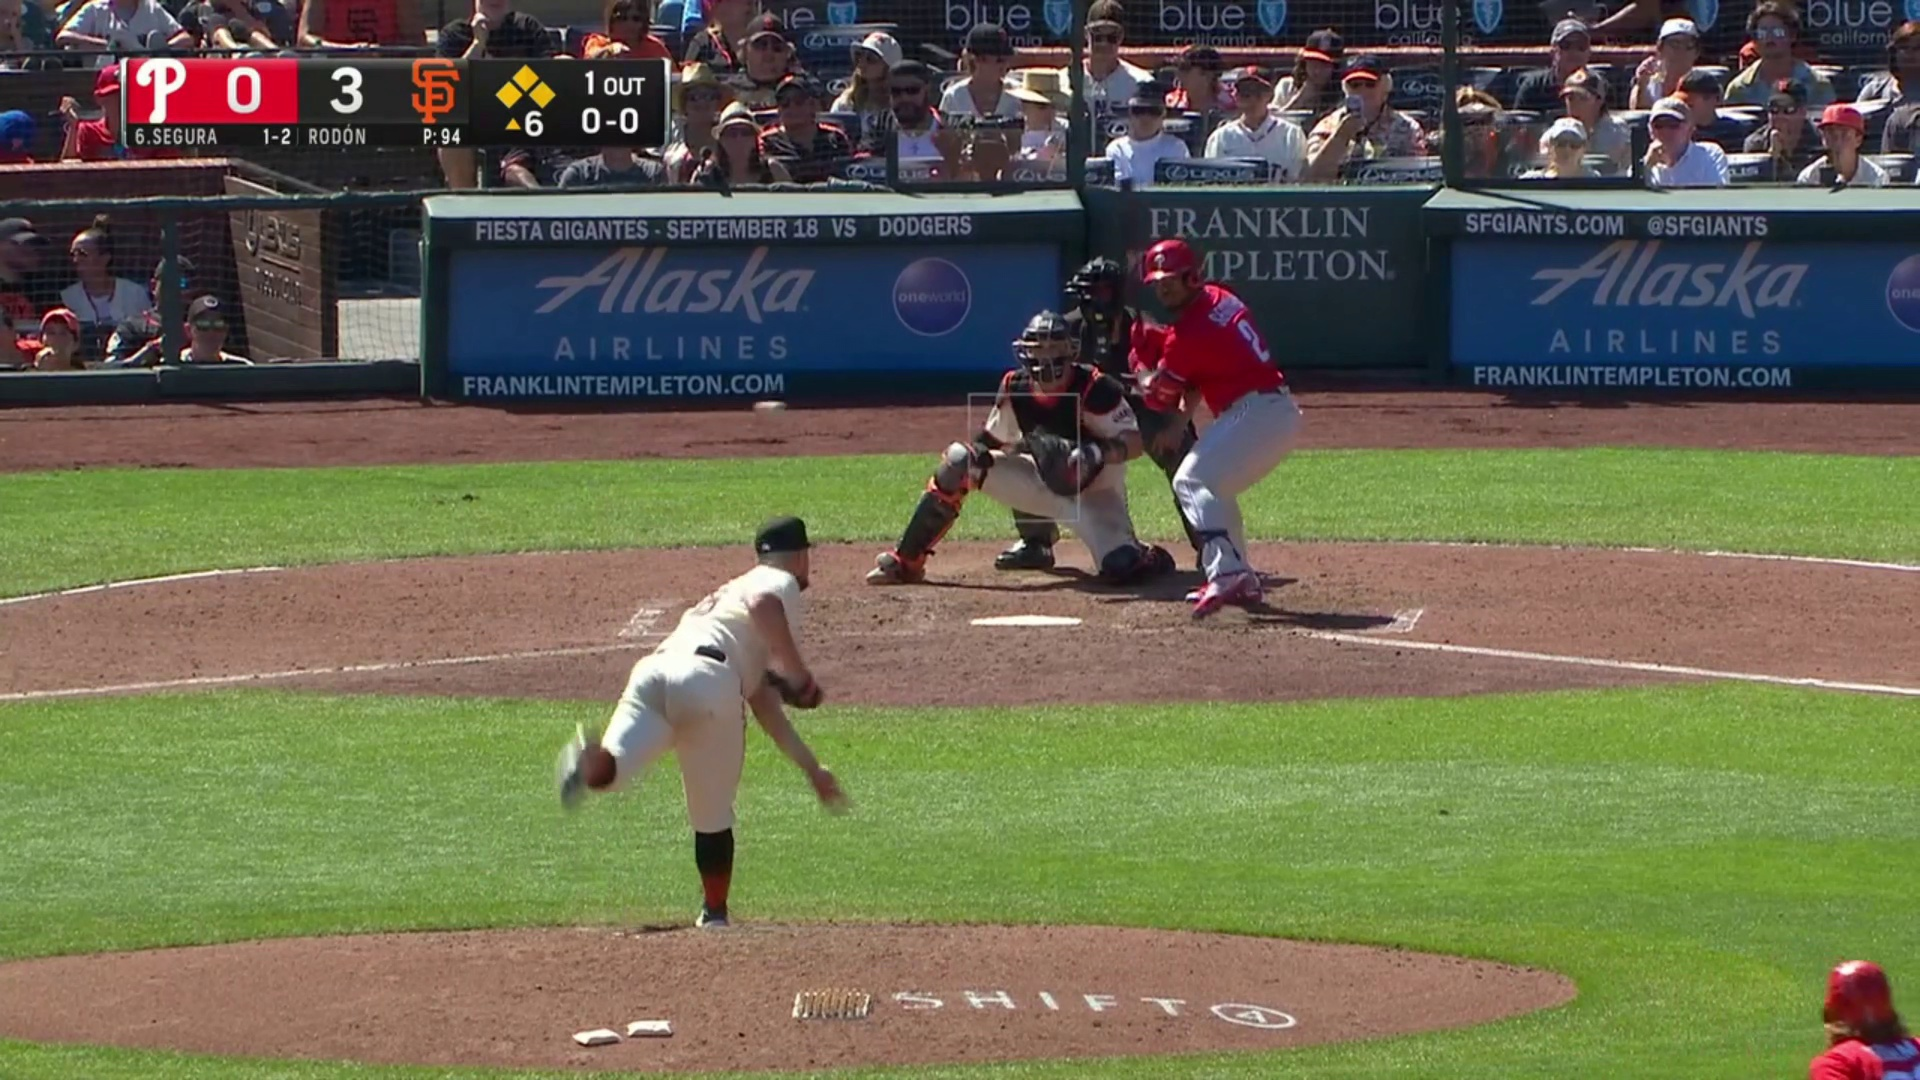baseball: (752, 400, 785, 419)
